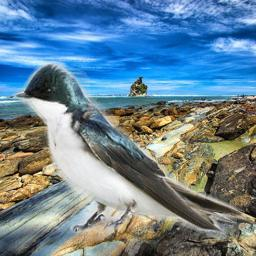Swallow: (12, 60, 245, 239)
